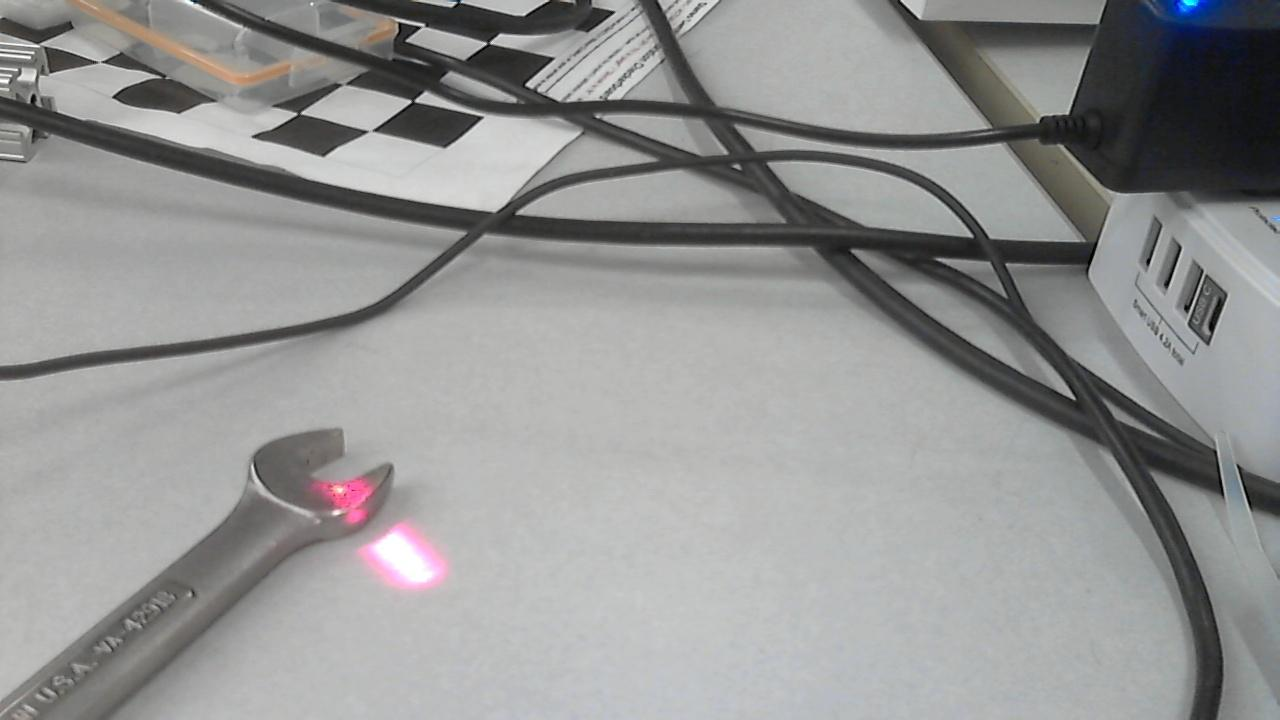Object combination wrench - Material metal- Pdfname faefasdffdaea: (297, 468, 378, 526)
